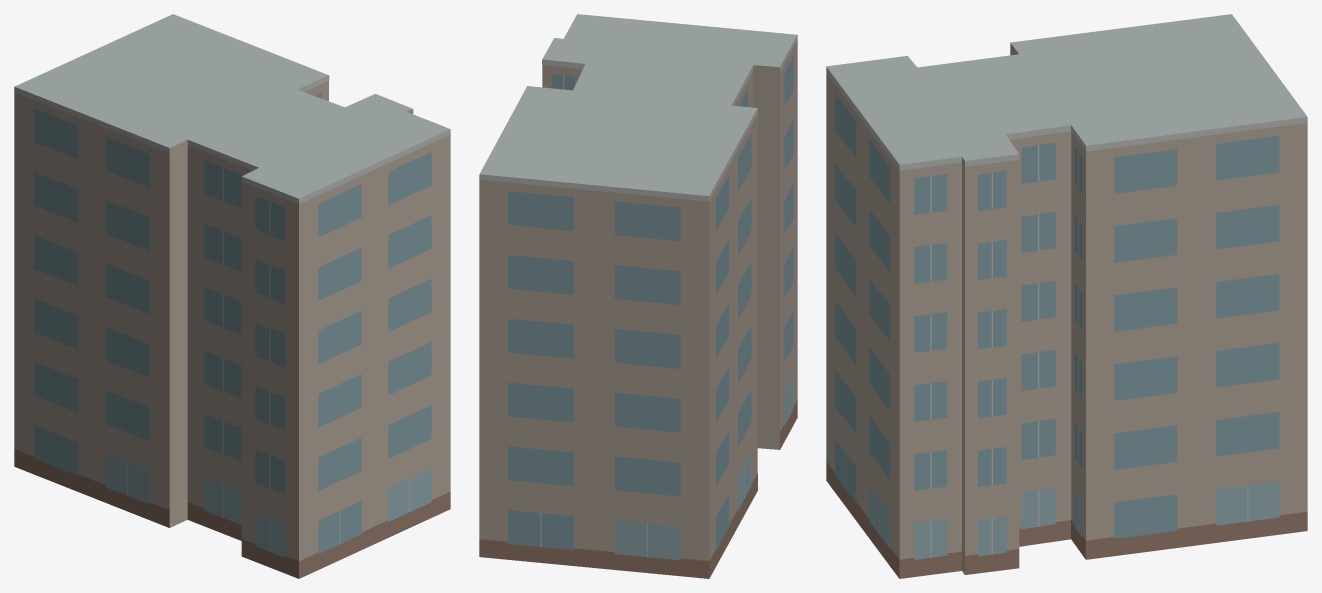
File: survey-upis-32910448.glb
The picture shows the model from 3 angles, left to right: view 1: azimuth 30°, elevation 25°; view 2: azimuth 150°, elevation 25°; view 3: azimuth 270°, elevation 25°; orthographic projection. The views are drawn at different scales.
Parts seen in each view (by area): view 1: survey-upis-32910448.tmp; view 2: survey-upis-32910448.tmp; view 3: survey-upis-32910448.tmp.
Boxes of the visible parts, x1,y1,x2,y2 form: survey-upis-32910448.tmp: (14,14,450,578); survey-upis-32910448.tmp: (479,14,797,578); survey-upis-32910448.tmp: (826,14,1307,578).
Bounding box in the file's own units: 13.44 × 17.2 × 18.13.
